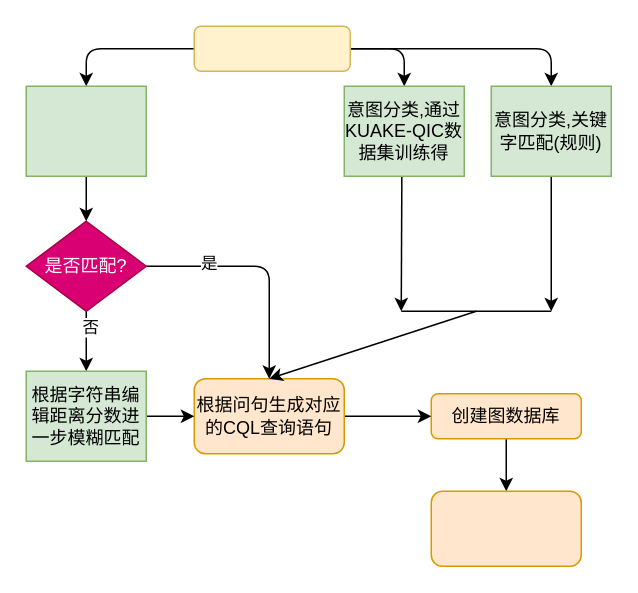
This 638x593 diagram has some shape labels left out. Each missing label, with the box of its shape:
Automaton匹配字符串实体: (25, 85, 146, 176)
CQL查询语句neo4j搜索并输出对应的答案: (430, 490, 581, 566)
问句分类: (193, 25, 350, 71)
